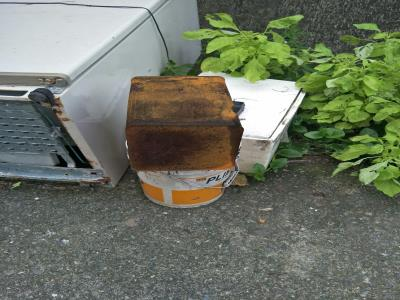box: (120, 74, 248, 173)
bucket: (135, 154, 237, 211)
styrofoam: (199, 68, 308, 177)
